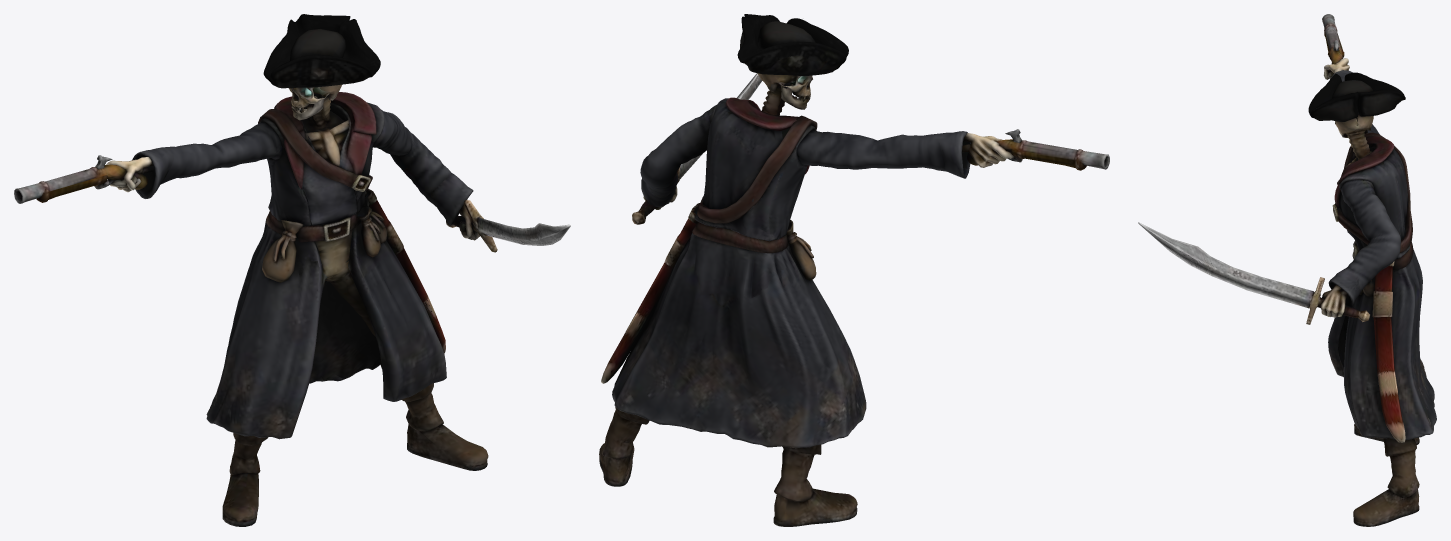
The model's file is MZ4250 - Skeleton Pirate Captain.glb.
The picture shows the model from 3 angles, left to right: view 1: azimuth 30°, elevation 25°; view 2: azimuth 150°, elevation 25°; view 3: azimuth 270°, elevation 25°; orthographic projection. The views are drawn at different scales.
Visible parts, largest first — view 1: Body.002; view 2: Body.002; view 3: Body.002.
Boxes of the visible parts, x1=… form: Body.002: x1=14, y1=14, x2=570, y2=526; Body.002: x1=599, y1=14, x2=1109, y2=526; Body.002: x1=1138, y1=14, x2=1436, y2=526.
Bounding box in the file's own units: 1.01 × 0.9433 × 0.6726.
Materials: 1 (1 with a texture image).
